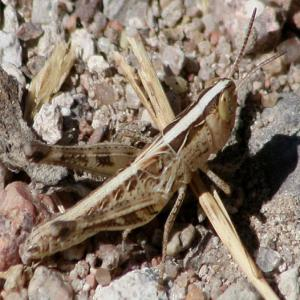locust: (20, 61, 254, 254)
